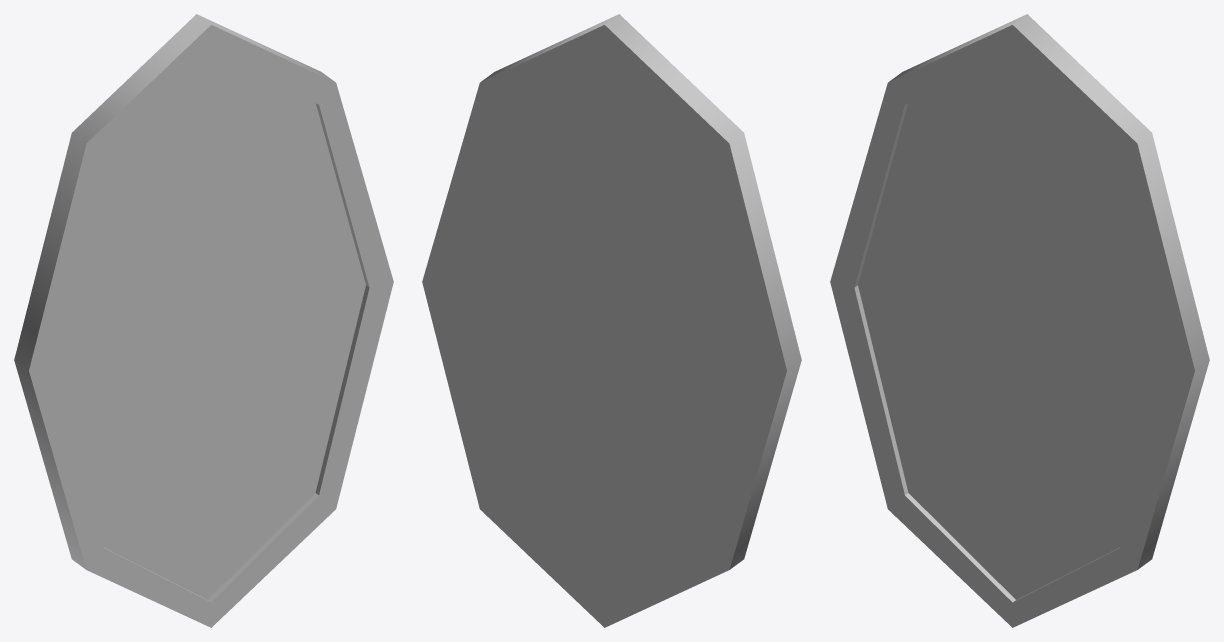
The model's file is Itr_Obj_Frame3_01.FBX.
3 views of the same model, side by side, from view 1: azimuth 30°, elevation 25°; view 2: azimuth 150°, elevation 25°; view 3: azimuth 330°, elevation 25° (orthographic).
Visible parts, largest first — view 1: Itr_Obj_Frame3_01; view 2: Itr_Obj_Frame3_01; view 3: Itr_Obj_Frame3_01.
Boxes of the visible parts, x1,y1,x2,y2 form: Itr_Obj_Frame3_01: (14, 14, 393, 627); Itr_Obj_Frame3_01: (422, 14, 801, 627); Itr_Obj_Frame3_01: (830, 14, 1209, 627).
Size of the model in its own units: 33.22 by 52.47 by 2.32.
